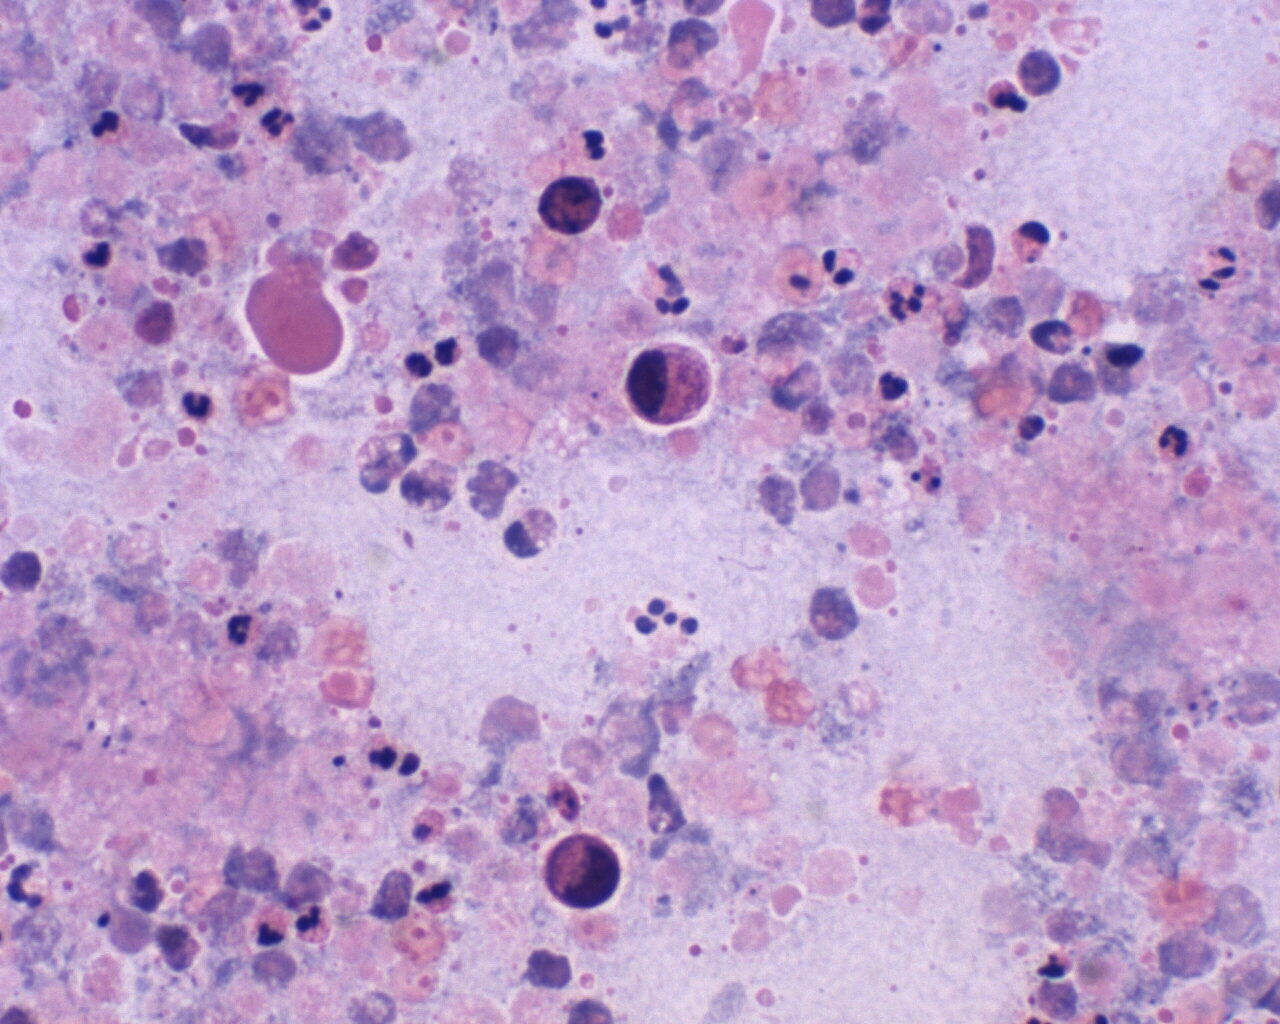ab: (539, 832, 630, 909)
meso: (627, 340, 722, 433)
neutro: (1146, 416, 1197, 467), (288, 902, 336, 951), (172, 385, 220, 425), (260, 103, 299, 142)
